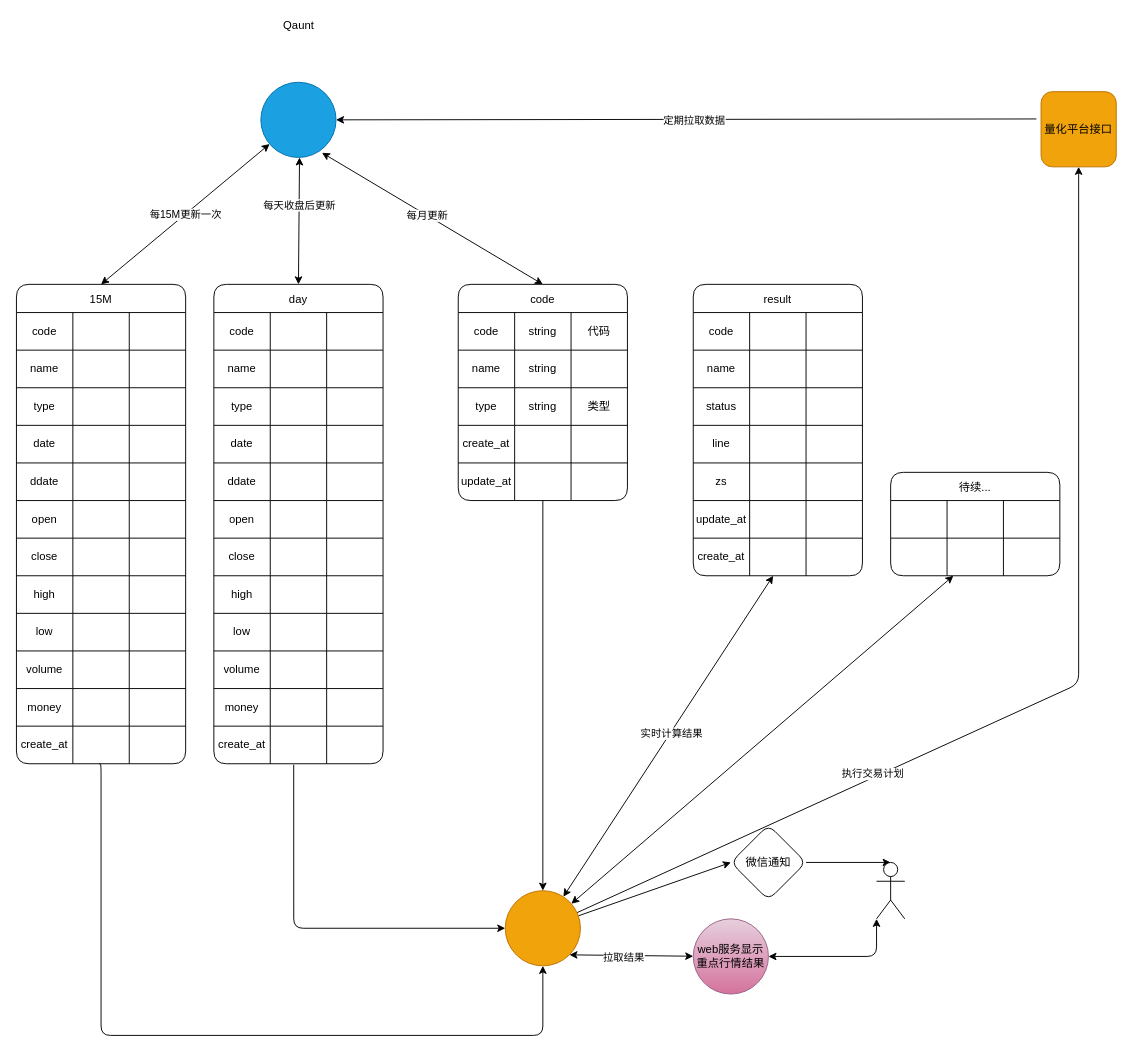
The diagram is 1133 pixels wide and 1059 high, and some of its shapes have lost their labels. The centre of each missing label's shape, as x and y in pixels:
"py模块:定时更新,定时检查数据一致性" goes at (298,119).
"rust模块:定期计算处理bar" goes at (542,928).
"We" goes at (890,890).
